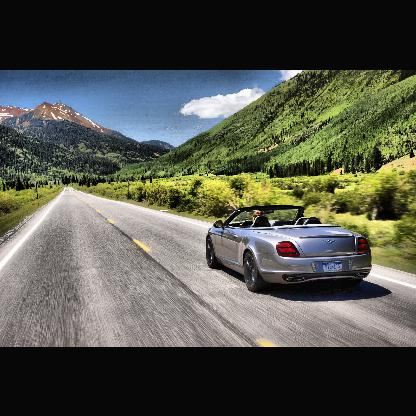Bentley Continental Supersports Conv- Convertible 2012: (205, 204, 375, 301)
